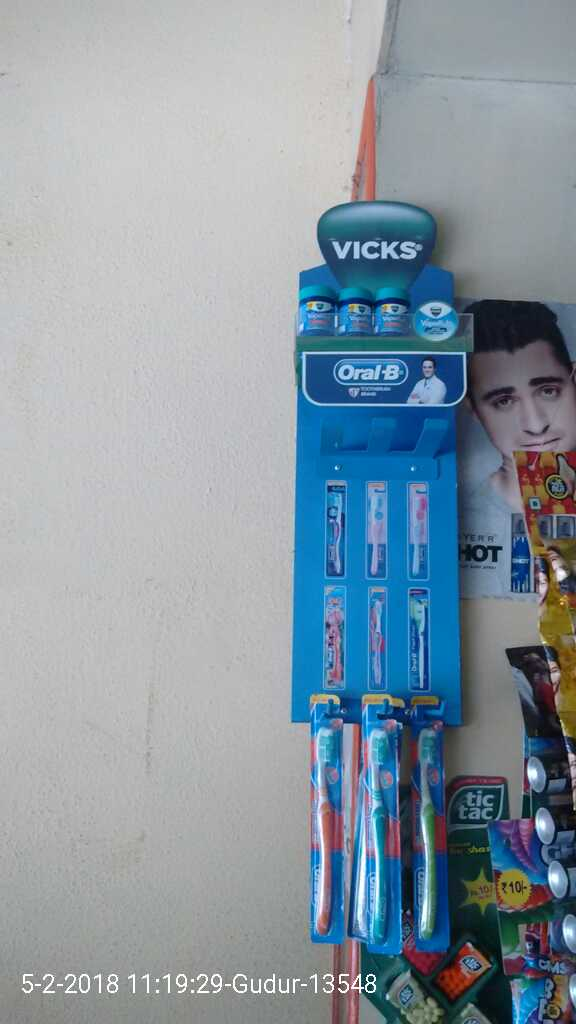pharmacy: (298, 285, 468, 341), (359, 720, 401, 941), (307, 699, 344, 936), (416, 717, 448, 948)
